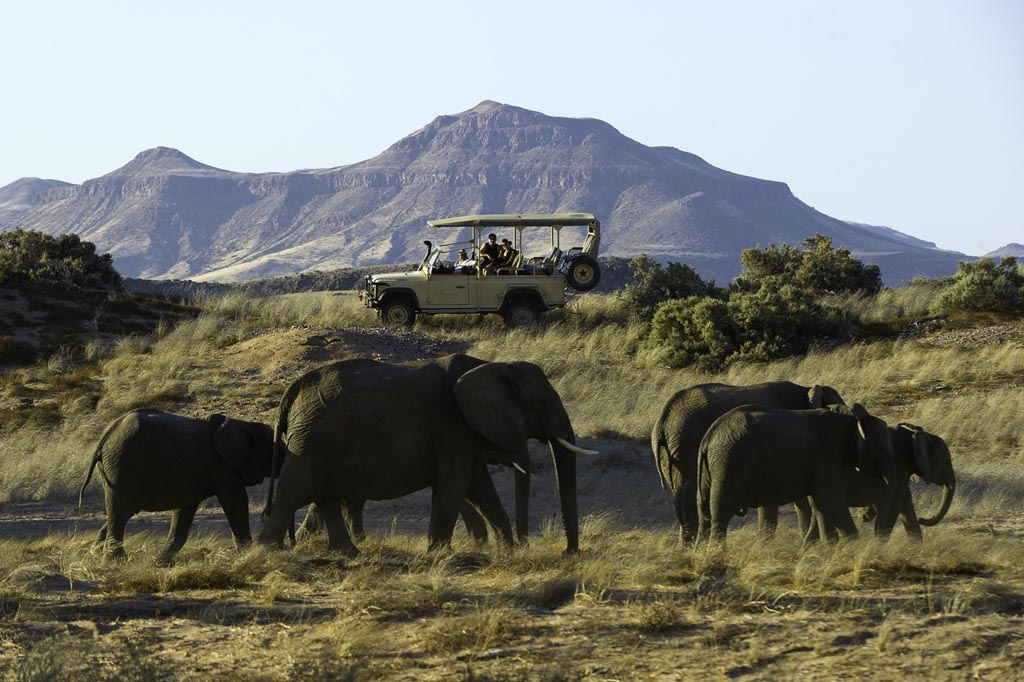elephant: (426, 461, 746, 672), (799, 477, 1014, 631), (184, 481, 388, 636)
